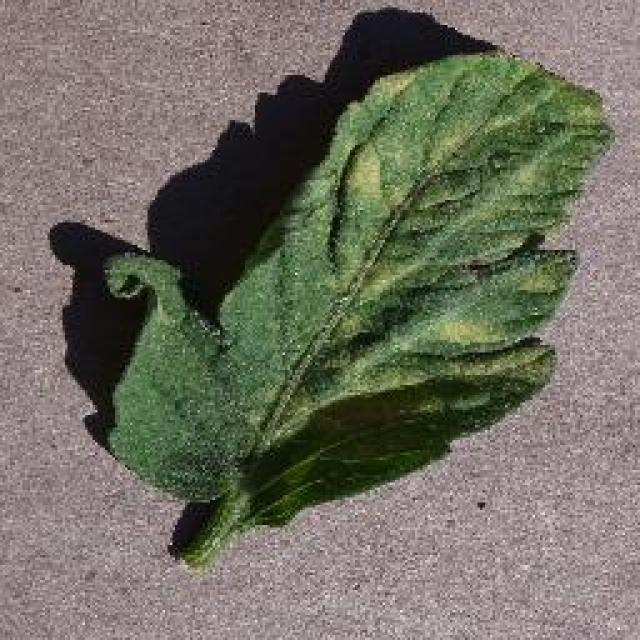Tomato mold leaf: (104, 48, 614, 532)
